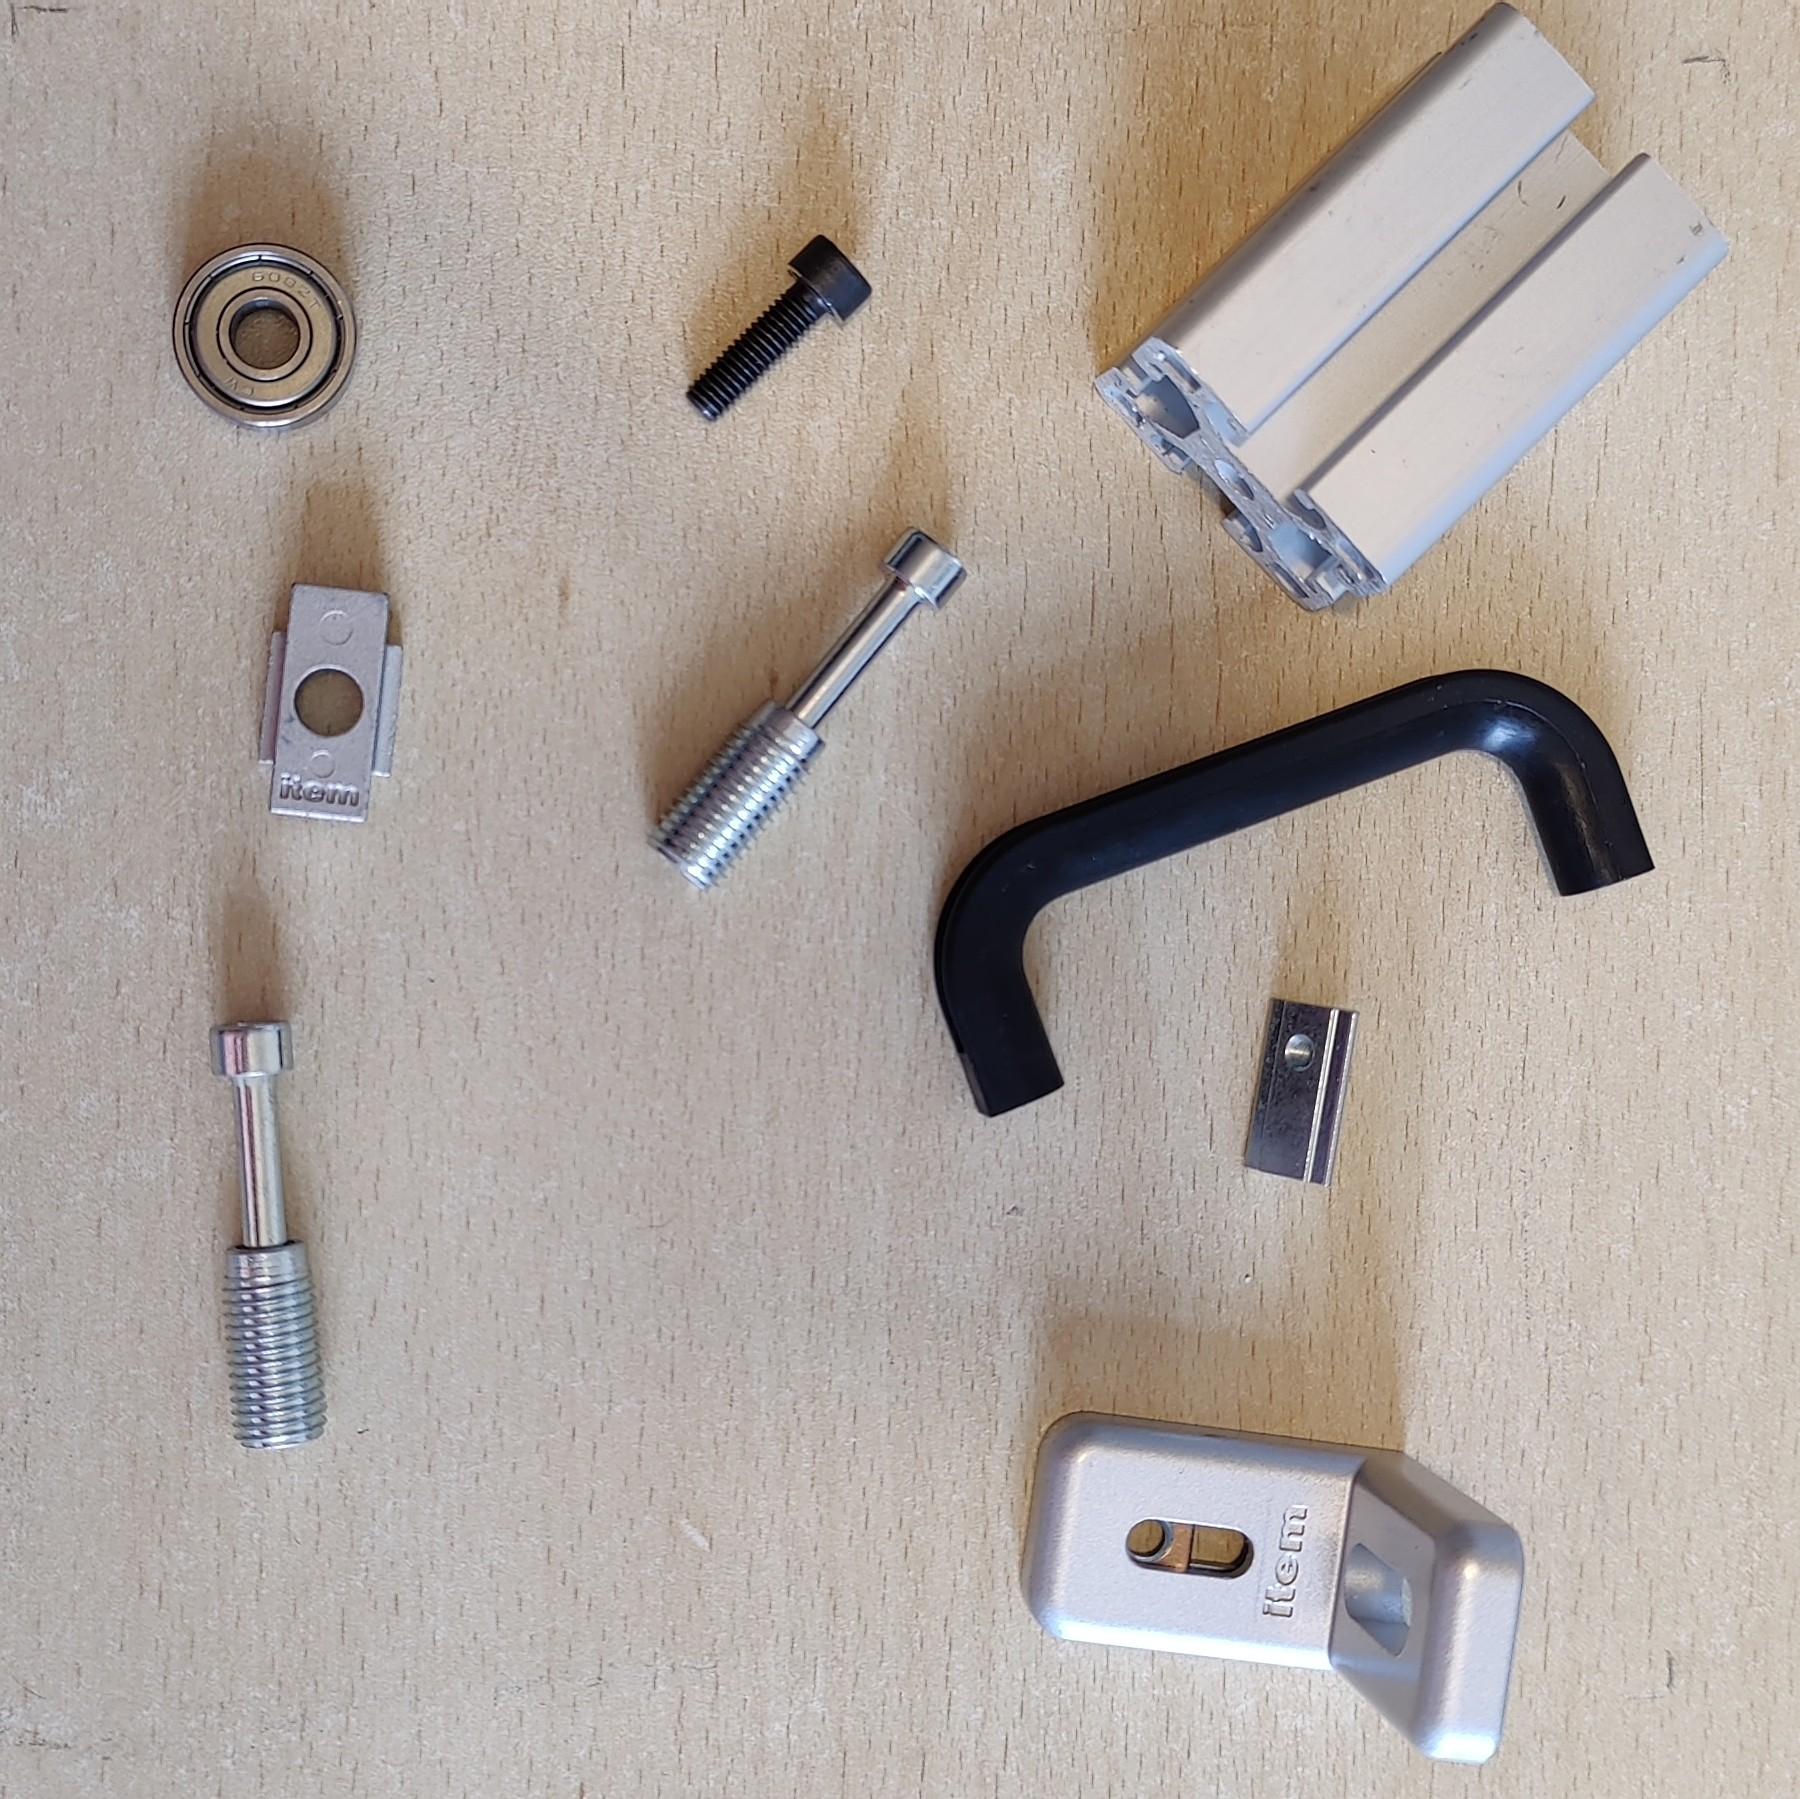Aluminium Extension: (1089, 2, 1731, 614)
Ball Bearing: (170, 237, 361, 438)
Multiwinkel: (1018, 1405, 1528, 1769)
Pull Handle: (930, 666, 1658, 1122)
Shoulder Socket Head Cap Screw: (644, 526, 968, 896), (203, 1015, 329, 1451)
Socket Head Cap Screw: (682, 231, 874, 427)
T Nut Square: (254, 580, 405, 827)
T Spring Nut: (1238, 992, 1362, 1193)
